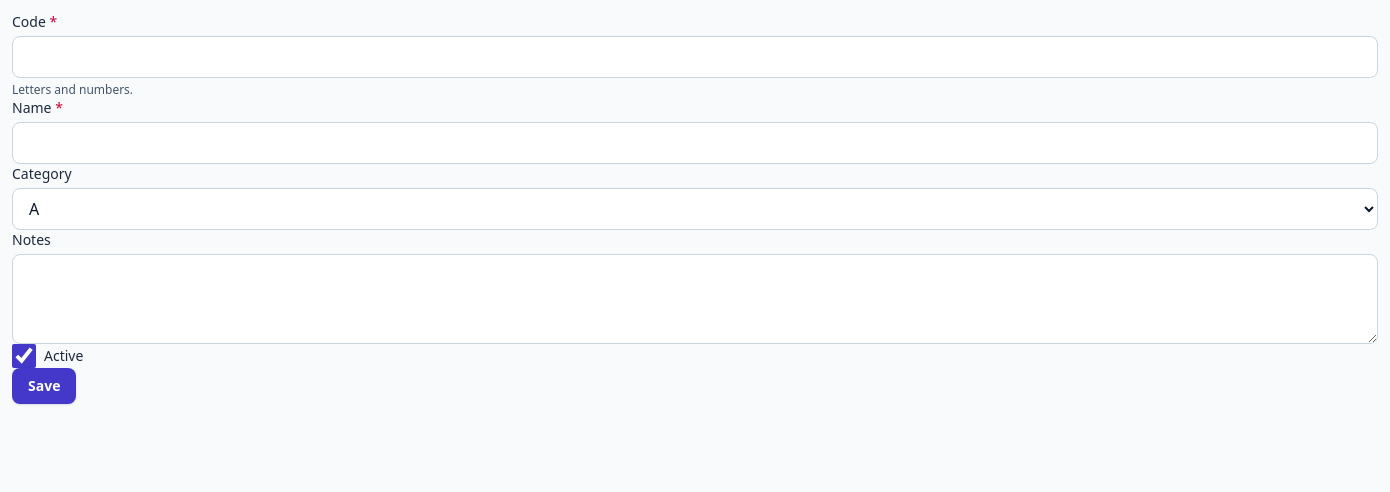
Test case: form fields › puts API validation messages and coded refusals on their fields, the rest on the form
Type "OPS" into the field labelled "Code *". click: (695, 57)
box: [12,36,1378,78]
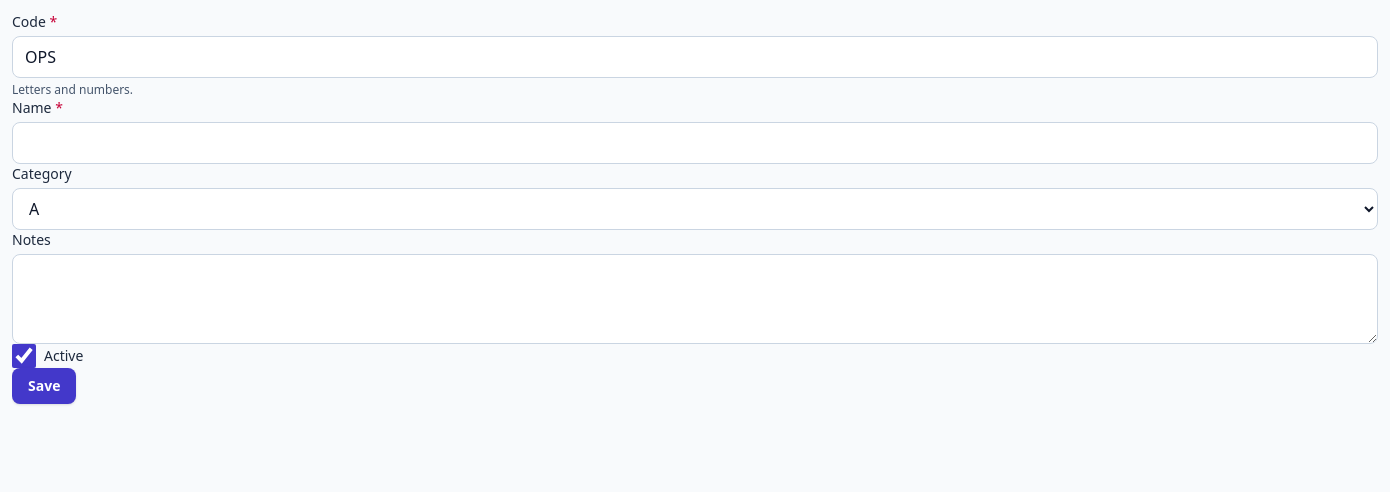
Type "Operations" into the field labelled "Name *". click: (695, 143)
box: [12,122,1378,164]
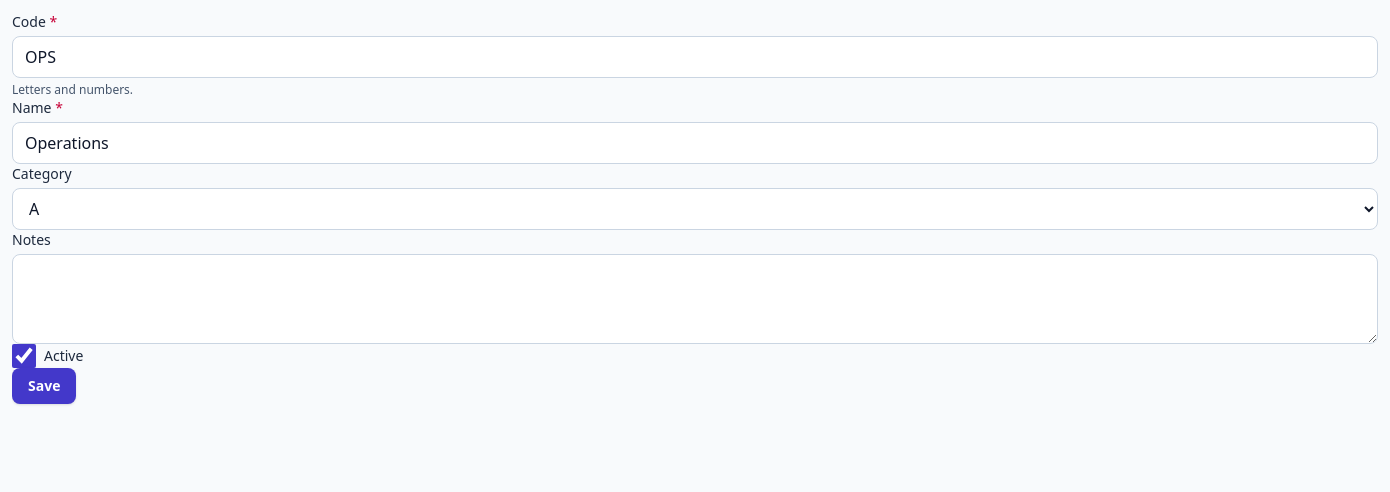
Click the button "Save". click: (44, 386)
box: [12,368,76,404]
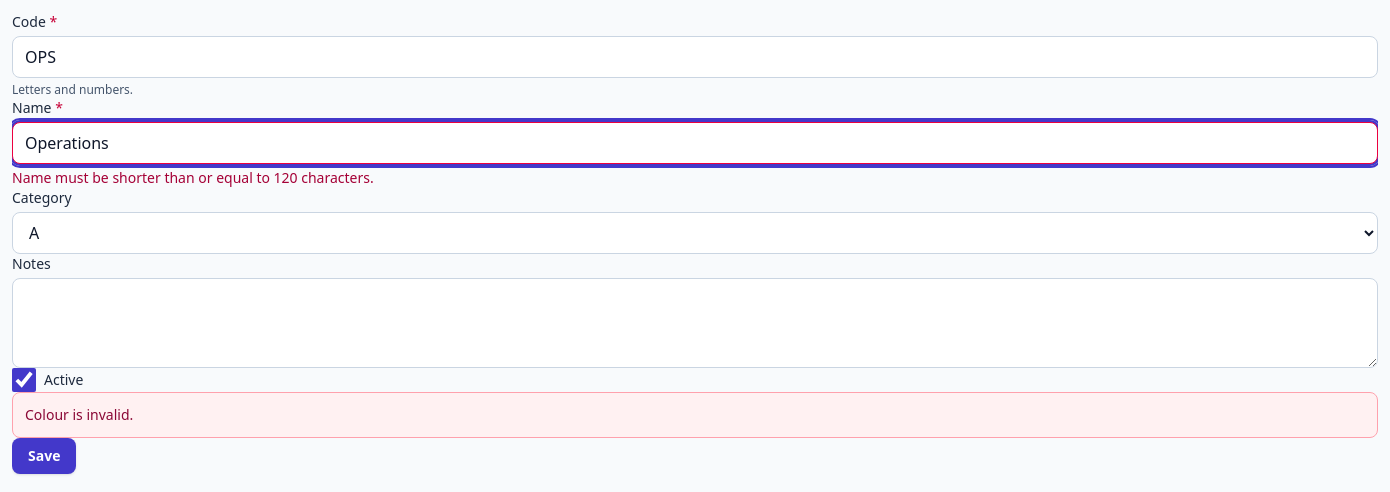
Check: the text "Name must be shorter than or equal to 120 characters." is shown, box [12,168,374,187]
Check: the text "Colour is invalid." is shown, box [12,392,1378,438]
Click the button "Save". click: (44, 456)
box: [12,438,76,474]
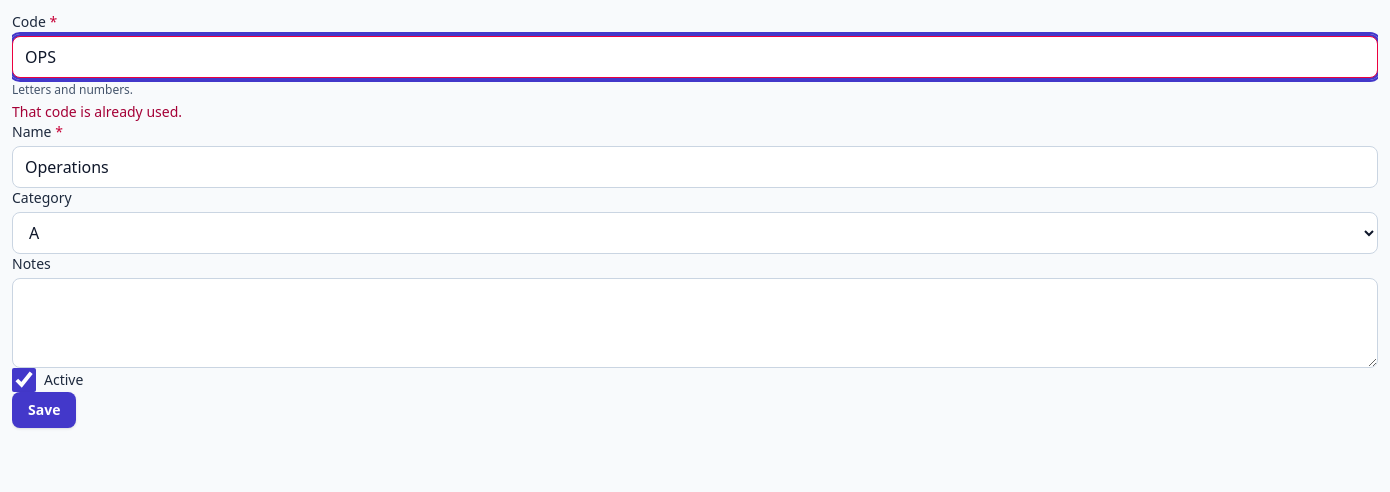
Check: the text "That code is already used." is shown, box [12,102,182,121]
Click the button "Save". click: (44, 410)
box: [12,392,76,428]
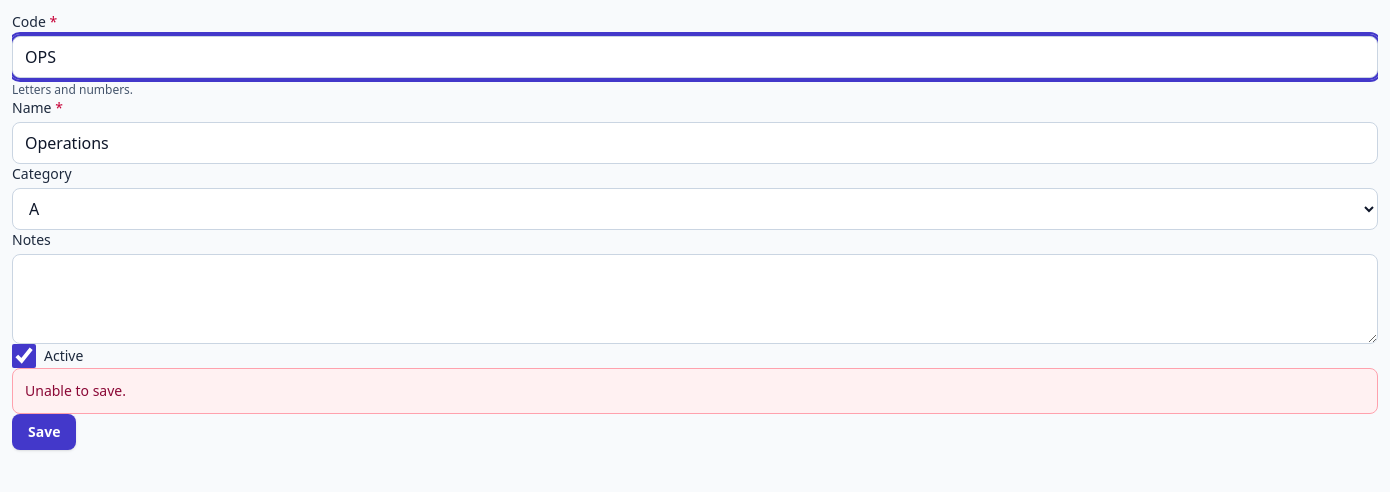
Check: the text "Unable to save." is shown, box [12,368,1378,414]
